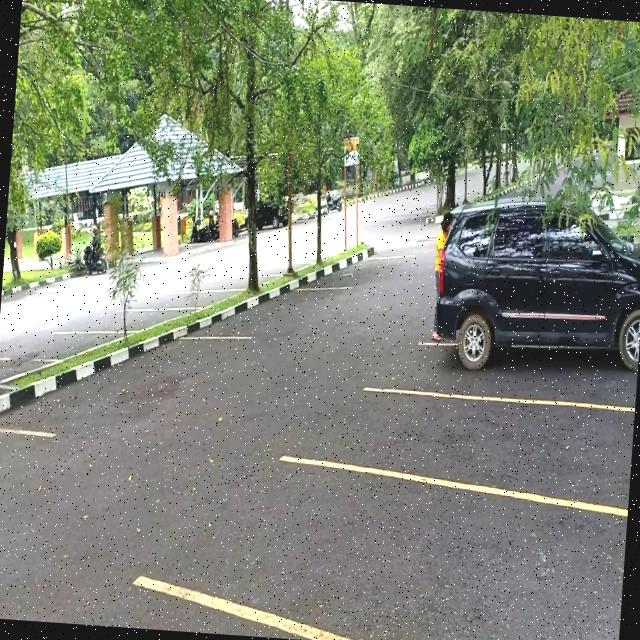empty: (314, 480, 628, 640), (358, 386, 635, 514), (247, 282, 313, 344), (336, 251, 409, 294), (27, 326, 98, 366), (121, 306, 172, 336), (177, 287, 224, 313), (217, 274, 250, 294)
occupied: (412, 258, 640, 413)
